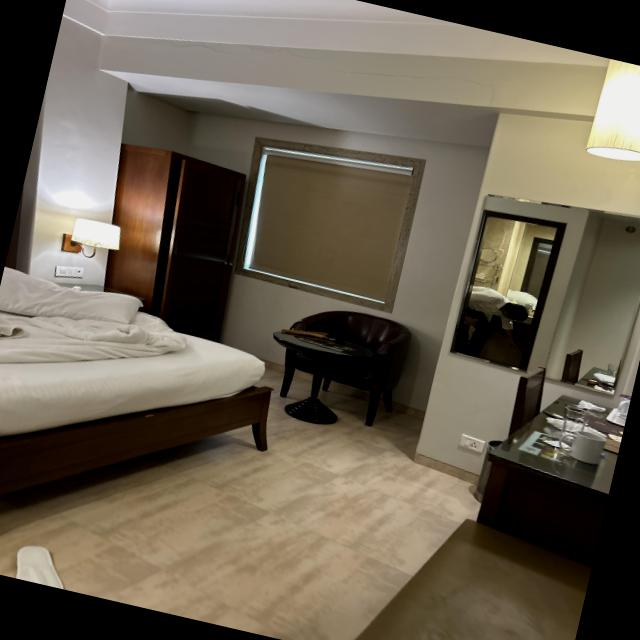mess: (0, 241, 335, 605), (410, 352, 633, 640)
